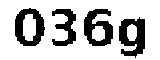0: (9, 6, 48, 51)
3: (48, 5, 79, 55)
6: (78, 1, 115, 48)
g: (115, 13, 147, 60)
